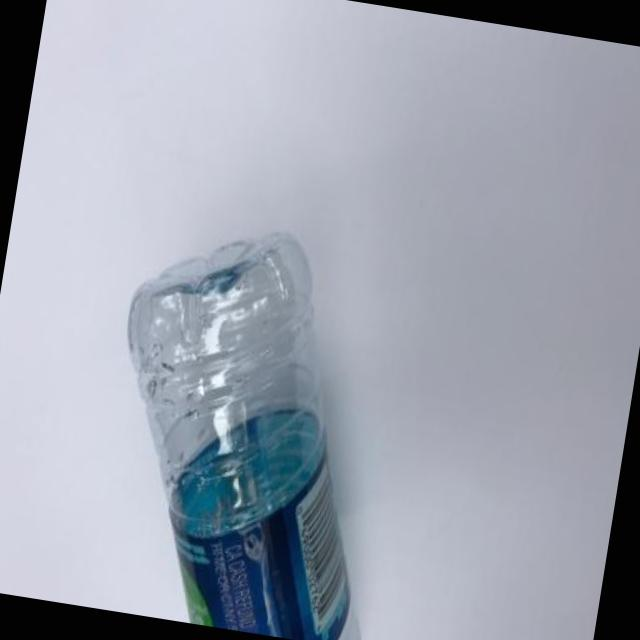Recycle: (80, 213, 431, 640)
